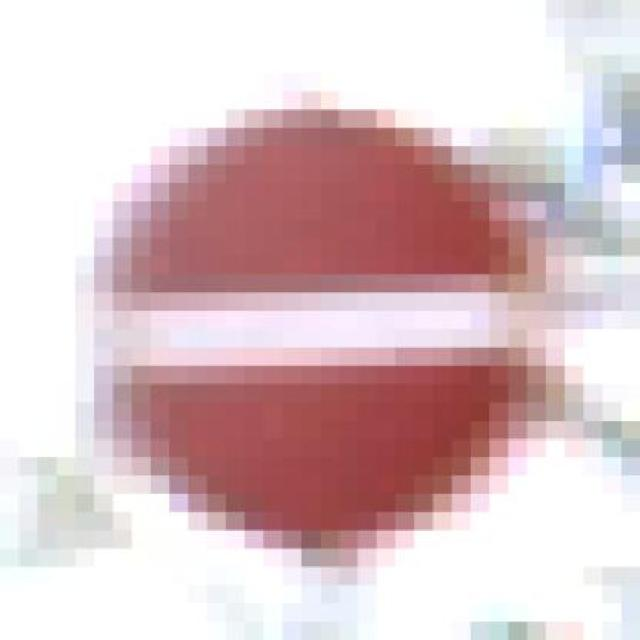No Entry: (76, 73, 564, 567)
